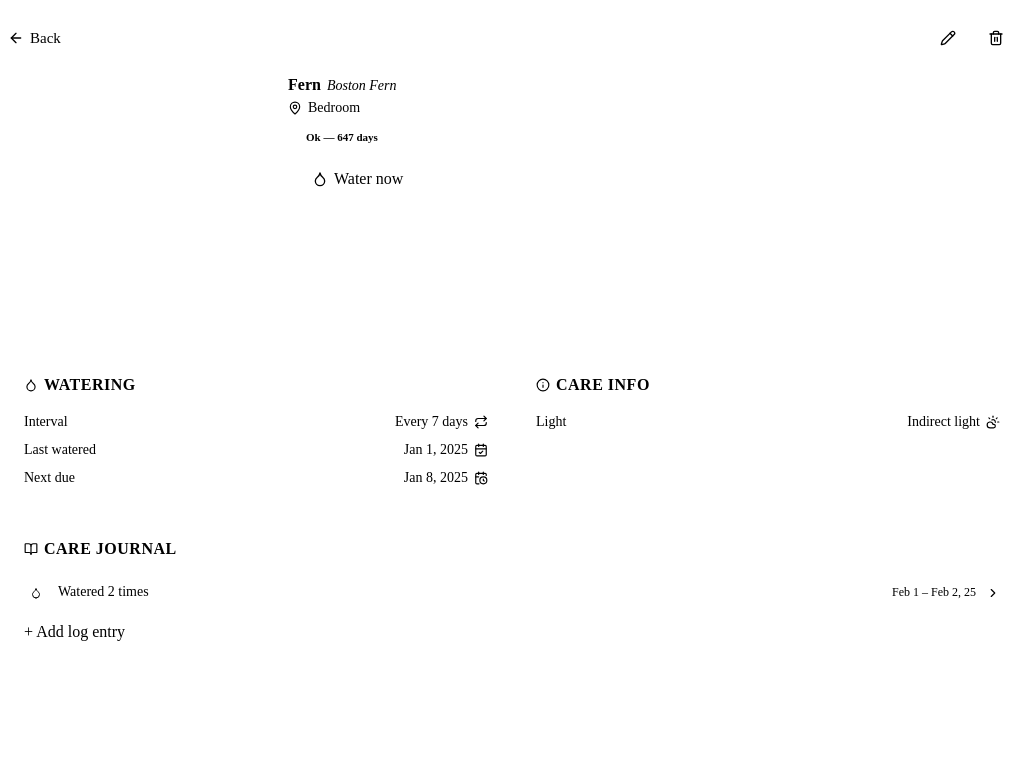
Test: plant detail rendering › shows enabled delete controls for each entry in an expanded watering group
This screenshot has width=1024, height=768.
Click the button with aria-label "Expand watering entries": (103, 592) [24,572,1000,614]
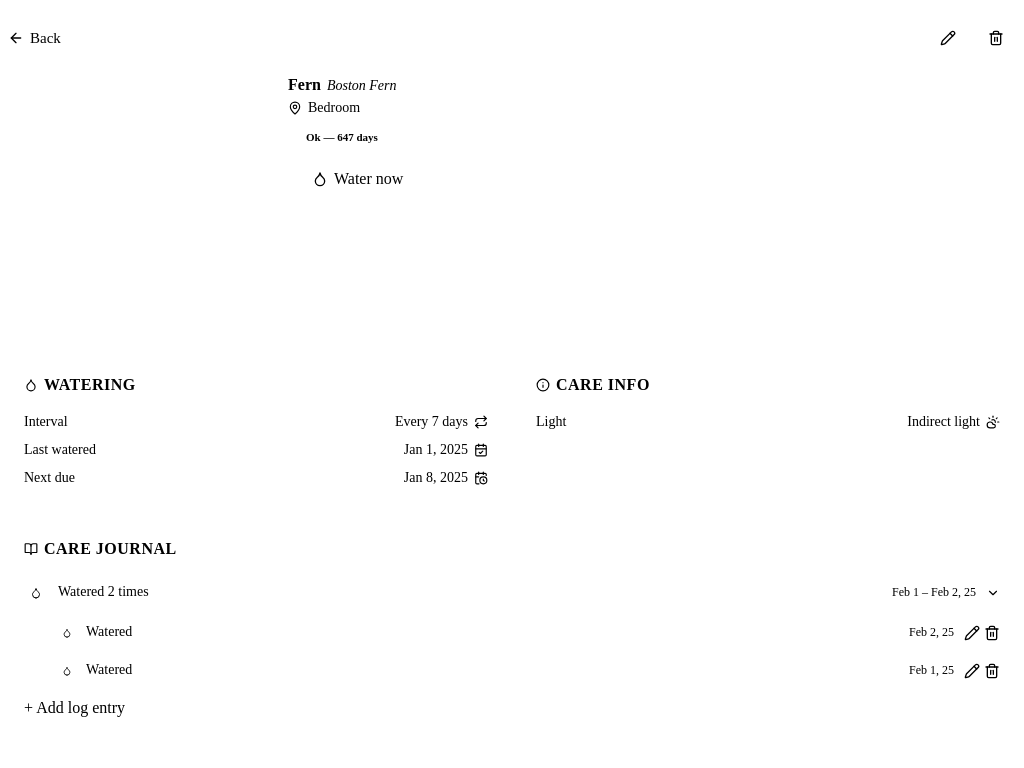
Expected: the number of elements with class "timeline-nested" is 2, [62,624,1000,641]; [62,662,1000,679]
Expected: the 1st button named "Delete log entry" is enabled, [984,625,1000,641]
Expected: the button named "Delete log entry" next to "Feb 1, 25" is enabled, [984,663,1000,679]
